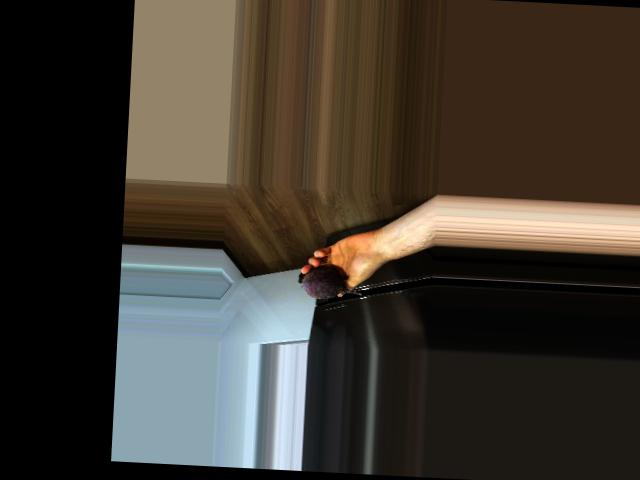beet: (296, 266, 362, 300)
